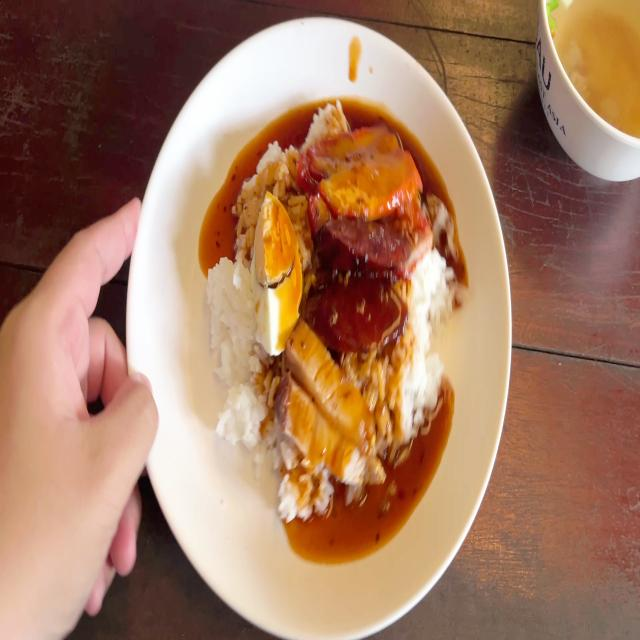boiled_egg: (252, 192, 296, 351)
chainese_sausage: (306, 219, 405, 348)
crispy_pork: (281, 330, 367, 470)
red_pork: (304, 125, 412, 212)
red_pork_and_crispy_pork: (207, 102, 454, 508)
rice: (207, 262, 261, 434), (400, 262, 446, 435)
